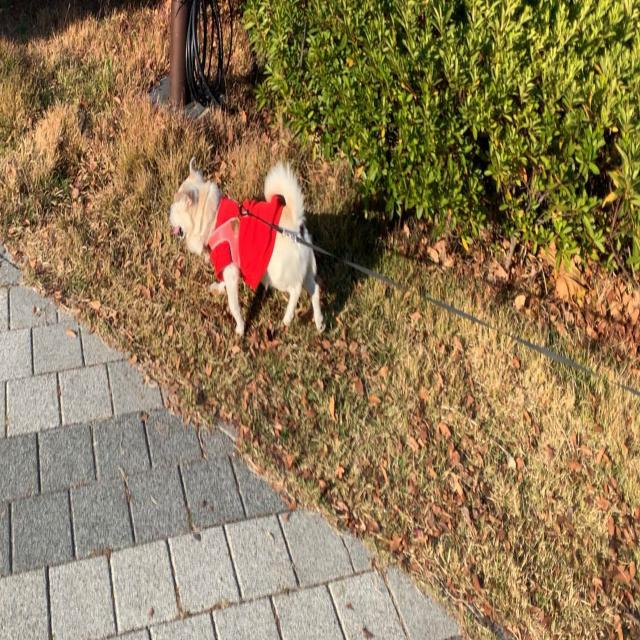Dog: (168, 154, 328, 340)
